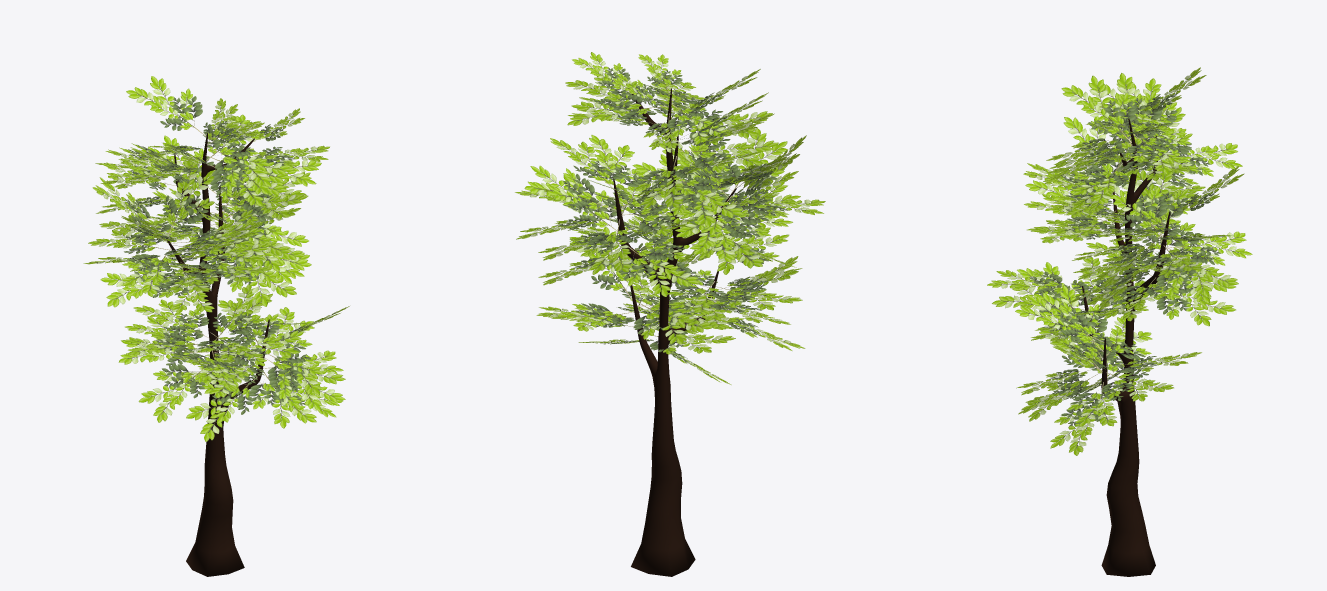
Rendered from Environment Pohon Gaharu.fbx.
3 renders of one model, left to right at view 1: azimuth 30°, elevation 25°; view 2: azimuth 150°, elevation 25°; view 3: azimuth 270°, elevation 25°, orthographic. The views are drawn at different scales.
Visible parts, largest first — view 1: Batang, Texture_daun_pohon_gaharu.041, Texture_daun_pohon_gaharu.017, Texture_daun_pohon_gaharu.057, Texture_daun_pohon_gaharu.049, Texture_daun_pohon_gaharu.044, Texture_daun_pohon_gaharu.001, Texture_daun_pohon_gaharu.062, Texture_daun_pohon_gaharu.055, Texture_daun_pohon_gaharu.014, Texture_daun_pohon_gaharu.054, Texture_daun_pohon_gaharu.075 (+37 smaller); view 2: Batang, Texture_daun_pohon_gaharu.027, Texture_daun_pohon_gaharu.005, Texture_daun_pohon_gaharu.022, Texture_daun_pohon_gaharu.024, Texture_daun_pohon_gaharu.026, Texture_daun_pohon_gaharu.043, Texture_daun_pohon_gaharu.021, Texture_daun_pohon_gaharu.048, Texture_daun_pohon_gaharu.078, Texture_daun_pohon_gaharu.010, Texture_daun_pohon_gaharu.072 (+35 smaller); view 3: Batang, Texture_daun_pohon_gaharu.036, Texture_daun_pohon_gaharu.025, Texture_daun_pohon_gaharu.047, Texture_daun_pohon_gaharu.065, Texture_daun_pohon_gaharu.067, Texture_daun_pohon_gaharu.050, Texture_daun_pohon_gaharu.021, Texture_daun_pohon_gaharu.026, Texture_daun_pohon_gaharu.020, Texture_daun_pohon_gaharu.079, Texture_daun_pohon_gaharu.002 (+32 smaller).
Boxes of the visible parts, x1,y1,x2,y2 form: Batang: (167,133,269,576); Texture_daun_pohon_gaharu.041: (126,76,206,136); Texture_daun_pohon_gaharu.017: (138,364,209,422); Texture_daun_pohon_gaharu.057: (162,156,216,236); Texture_daun_pohon_gaharu.049: (186,377,257,441); Texture_daun_pohon_gaharu.044: (206,146,293,187); Texture_daun_pohon_gaharu.001: (264,352,345,395); Texture_daun_pohon_gaharu.062: (248,370,316,428); Texture_daun_pohon_gaharu.055: (213,284,272,343); Texture_daun_pohon_gaharu.014: (121,248,178,296); Texture_daun_pohon_gaharu.054: (214,330,303,365); Texture_daun_pohon_gaharu.075: (224,254,296,306); Batang: (613,88,736,576); Texture_daun_pohon_gaharu.027: (619,245,699,296); Texture_daun_pohon_gaharu.005: (524,165,616,213); Texture_daun_pohon_gaharu.022: (666,176,743,227); Texture_daun_pohon_gaharu.024: (678,137,778,172); Texture_daun_pohon_gaharu.026: (580,219,639,274); Texture_daun_pohon_gaharu.043: (567,93,667,125); Texture_daun_pohon_gaharu.021: (634,156,693,209); Texture_daun_pohon_gaharu.048: (633,301,712,344); Texture_daun_pohon_gaharu.078: (589,135,646,187); Texture_daun_pohon_gaharu.010: (724,128,787,194); Texture_daun_pohon_gaharu.072: (675,195,738,249); Batang: (1082,118,1170,576); Texture_daun_pohon_gaharu.036: (1061,75,1136,142); Texture_daun_pohon_gaharu.025: (1095,170,1168,236); Texture_daun_pohon_gaharu.047: (1015,295,1104,342); Texture_daun_pohon_gaharu.065: (1156,283,1235,326); Texture_daun_pohon_gaharu.067: (1164,248,1238,297); Texture_daun_pohon_gaharu.050: (1033,285,1107,351); Texture_daun_pohon_gaharu.021: (1168,143,1242,176); Texture_daun_pohon_gaharu.026: (1167,231,1252,265); Texture_daun_pohon_gaharu.020: (1090,73,1162,138); Texture_daun_pohon_gaharu.079: (1135,166,1188,232); Texture_daun_pohon_gaharu.002: (1050,396,1107,455).
Size of the model in its own units: 4519 by 6137 by 4284.
Materials: 2 (2 with a texture image).
